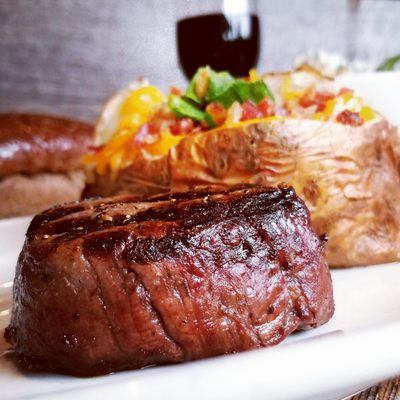pizza: (175, 0, 260, 83)
soup: (4, 60, 387, 380), (3, 183, 337, 373)
